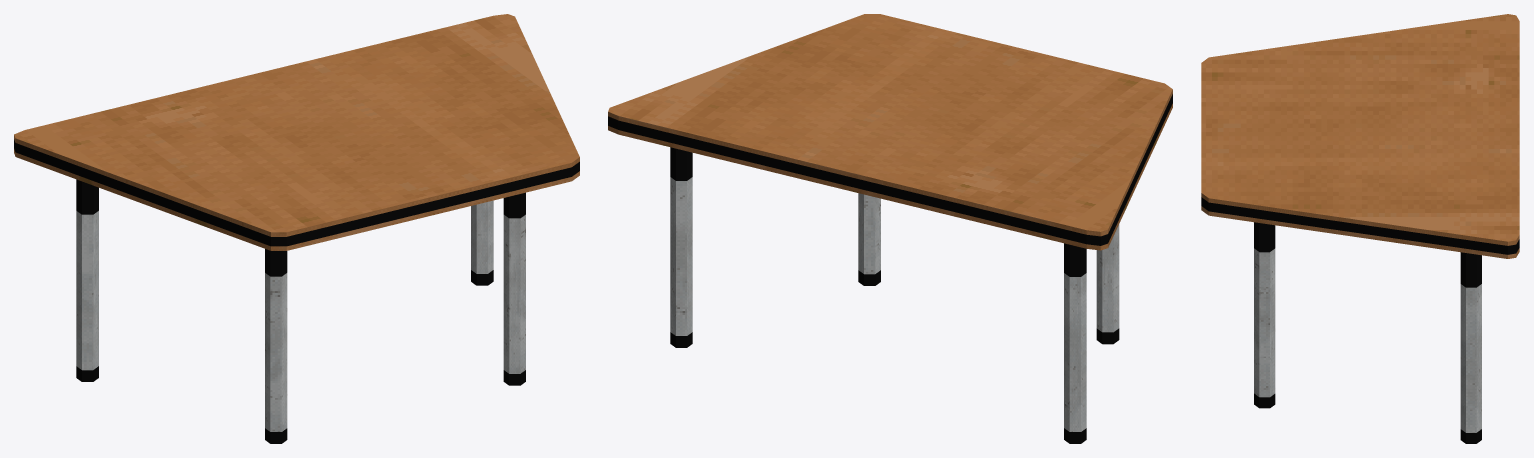
File: Tavolo_1.fbx
The picture shows the model from 3 angles, left to right: view 1: azimuth 30°, elevation 25°; view 2: azimuth 150°, elevation 25°; view 3: azimuth 270°, elevation 25°; orthographic projection. The views are drawn at different scales.
Parts seen in each view (by area): view 1: Cube.062; view 2: Cube.062; view 3: Cube.062.
Boxes of the visible parts, x1,y1,x2,y2 form: Cube.062: (14, 14, 579, 443); Cube.062: (608, 14, 1172, 443); Cube.062: (1201, 14, 1519, 443).
Size of the model in its own units: 2.28 by 1.04 by 1.35.
3 materials, 2 textured.
